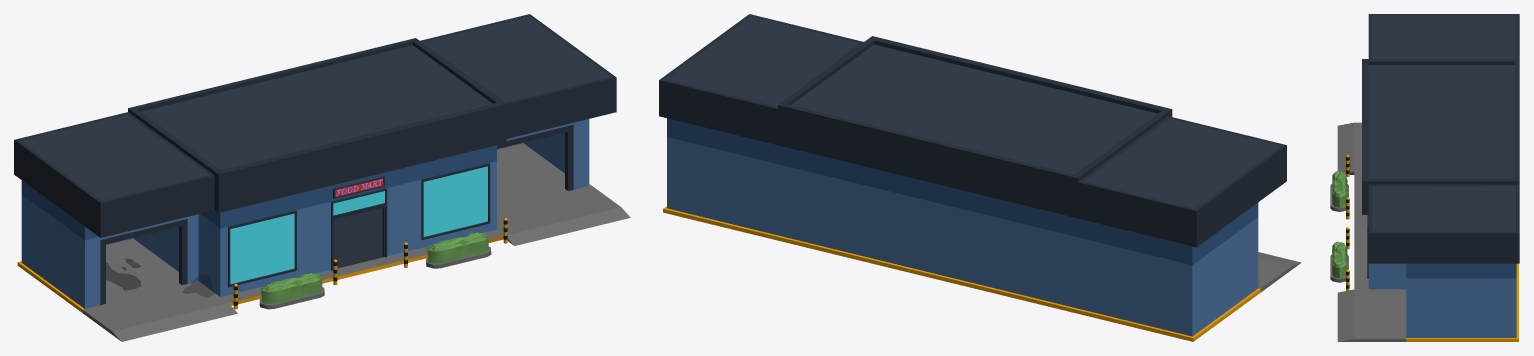
File: SM_Buildings_Gas_Station_01.fbx
The picture shows the model from 3 angles, left to right: view 1: azimuth 30°, elevation 25°; view 2: azimuth 150°, elevation 25°; view 3: azimuth 270°, elevation 25°; orthographic projection. The views are drawn at different scales.
Parts seen in each view (by area): view 1: SM_Buildings_Gas_Station_01; view 2: SM_Buildings_Gas_Station_01; view 3: SM_Buildings_Gas_Station_01.
Boxes of the visible parts, x1,y1,x2,y2 form: SM_Buildings_Gas_Station_01: (14,14,630,341); SM_Buildings_Gas_Station_01: (659,14,1301,341); SM_Buildings_Gas_Station_01: (1330,14,1519,341).
Bounding box in the file's own units: 28.06 × 6.78 × 10.24.
